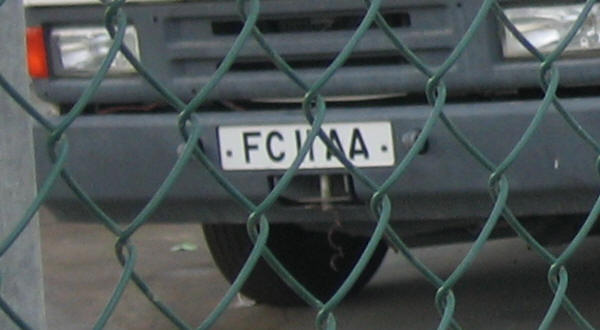license_plate: (213, 122, 397, 165)
